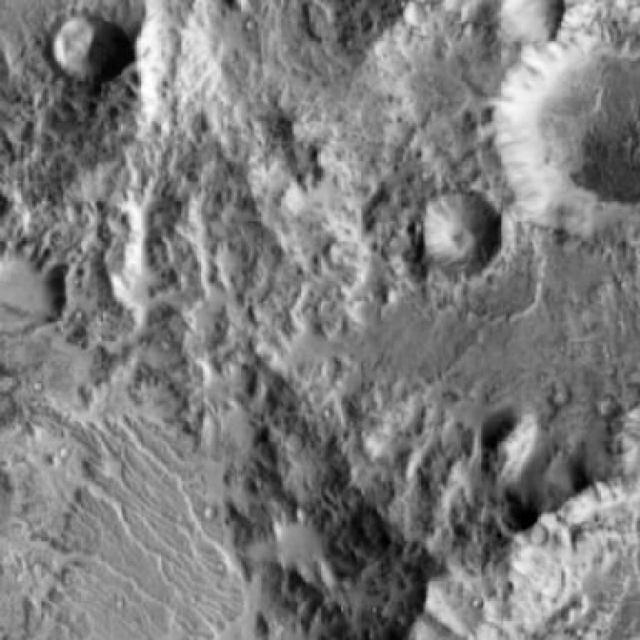crater: (475, 12, 640, 260), (398, 198, 489, 290), (33, 11, 110, 88), (0, 243, 46, 334), (469, 0, 545, 52)
